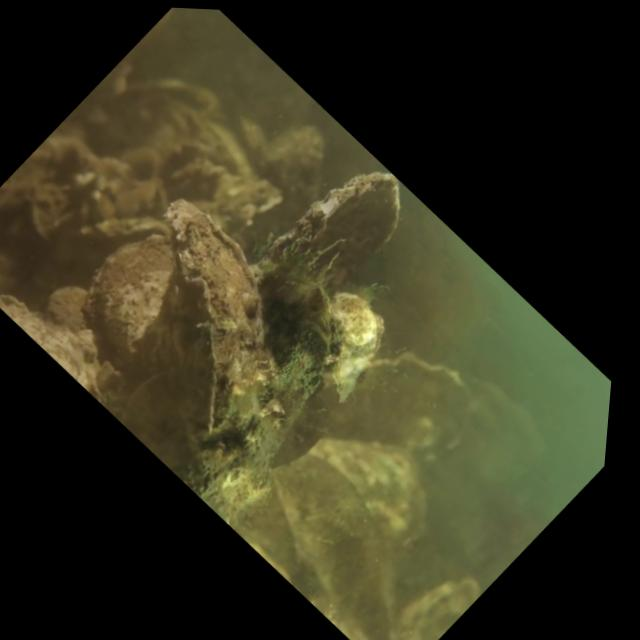Oyster-Closed: (250, 171, 401, 298), (326, 290, 378, 407)
Oyster-Indeterminate: (169, 281, 337, 525), (158, 193, 283, 456), (77, 230, 182, 370)
